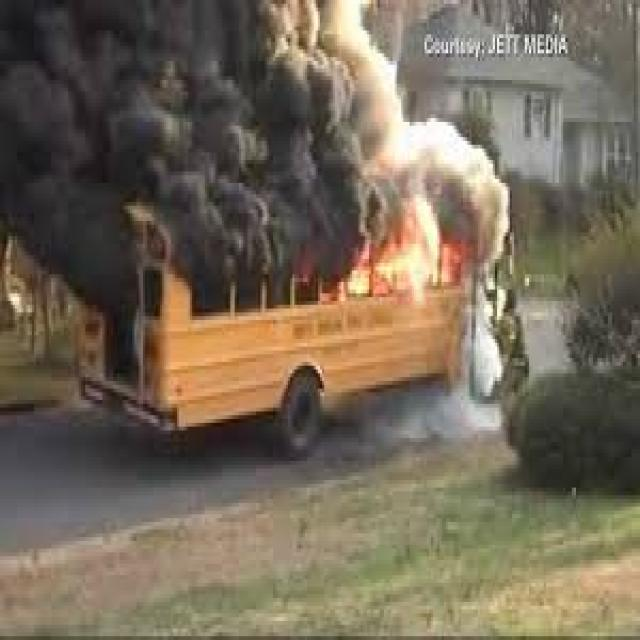Fire: (396, 203, 440, 293)
Smoke: (0, 0, 159, 318), (162, 0, 322, 271), (358, 112, 503, 242), (306, 58, 360, 274)
